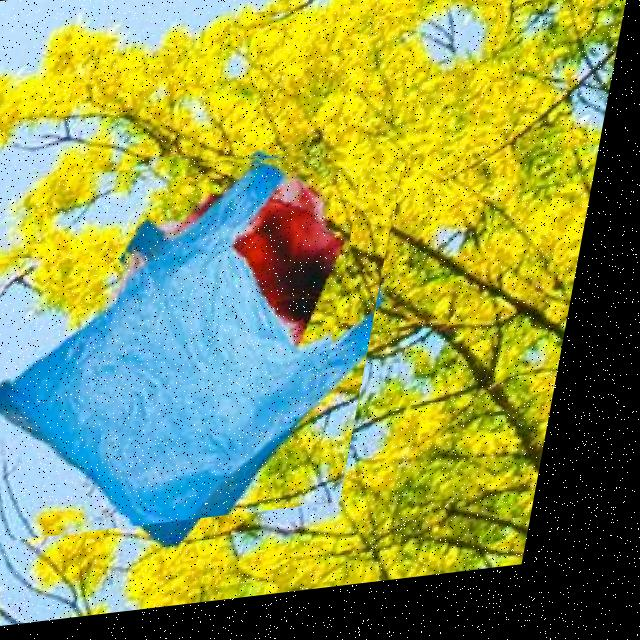litter: (0, 148, 414, 549), (106, 146, 376, 399)
